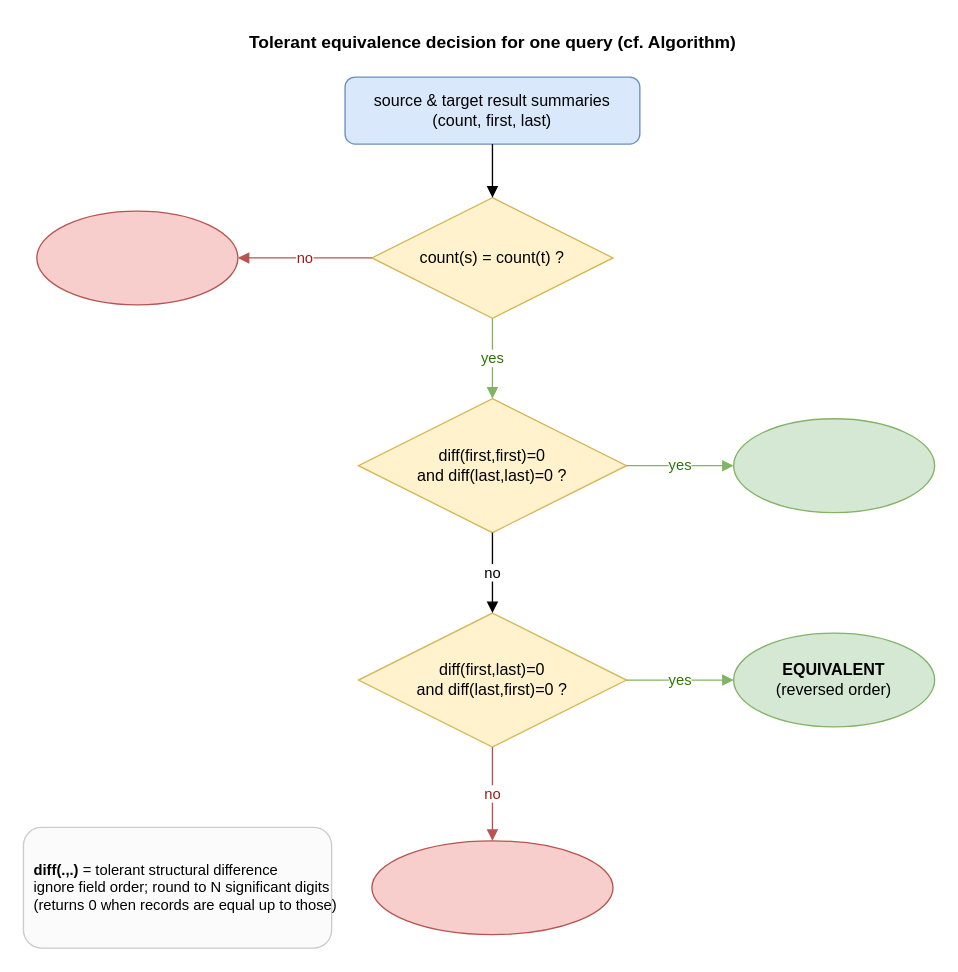
This 958x972 diagram has some shape labels left out. Here are the shapes that lost their labels. From the top down, the box of each, then its label:
(36, 210, 238, 305): DRIFT (cardinality)
(732, 417, 935, 513): EQUIVALENT (same order)
(371, 840, 613, 935): DRIFT (semantic)
